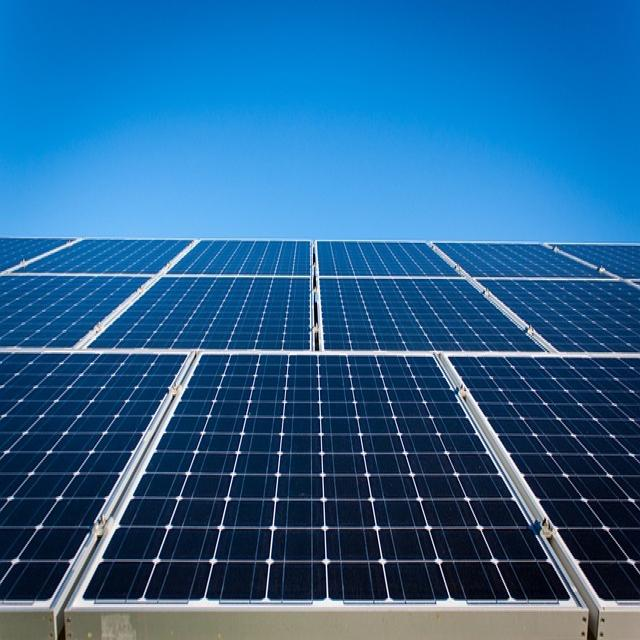clean-solar-panel: (1, 240, 640, 639)
